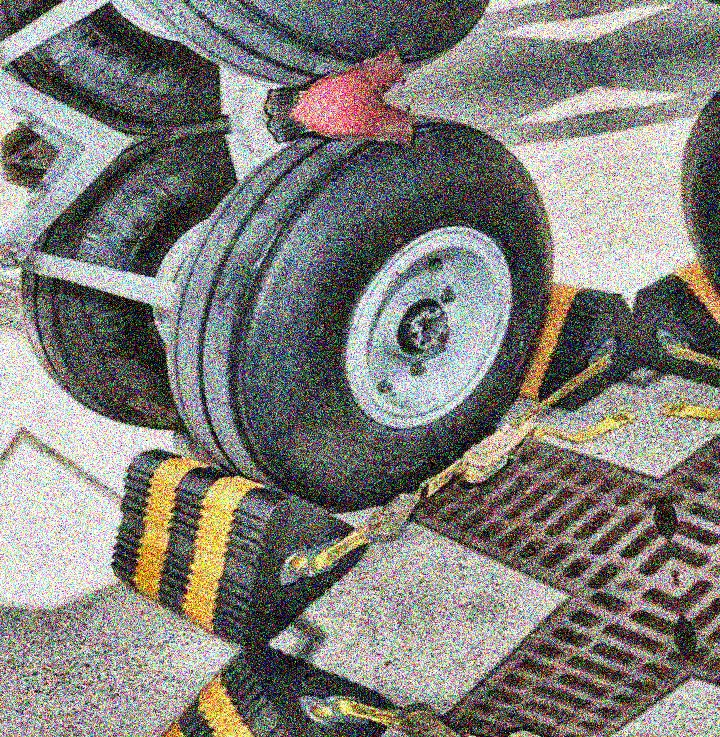chock: (91, 417, 385, 669), (125, 626, 419, 737), (471, 268, 647, 426), (625, 242, 720, 400)
wheel: (141, 93, 592, 527), (7, 128, 273, 445), (0, 0, 225, 156)
